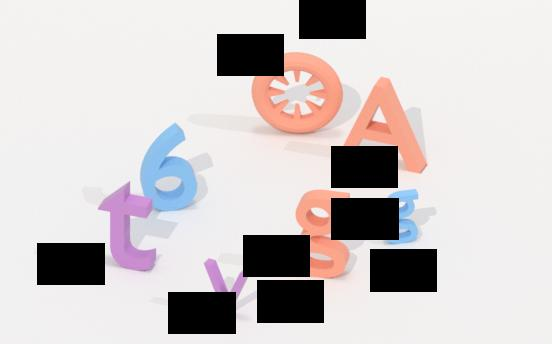6: (138, 121, 200, 215)
A-hoa: (337, 74, 430, 177)
g: (290, 188, 353, 285), (383, 187, 421, 246)
t: (95, 178, 163, 274)
tron: (250, 47, 344, 138)
v: (200, 253, 253, 324)
